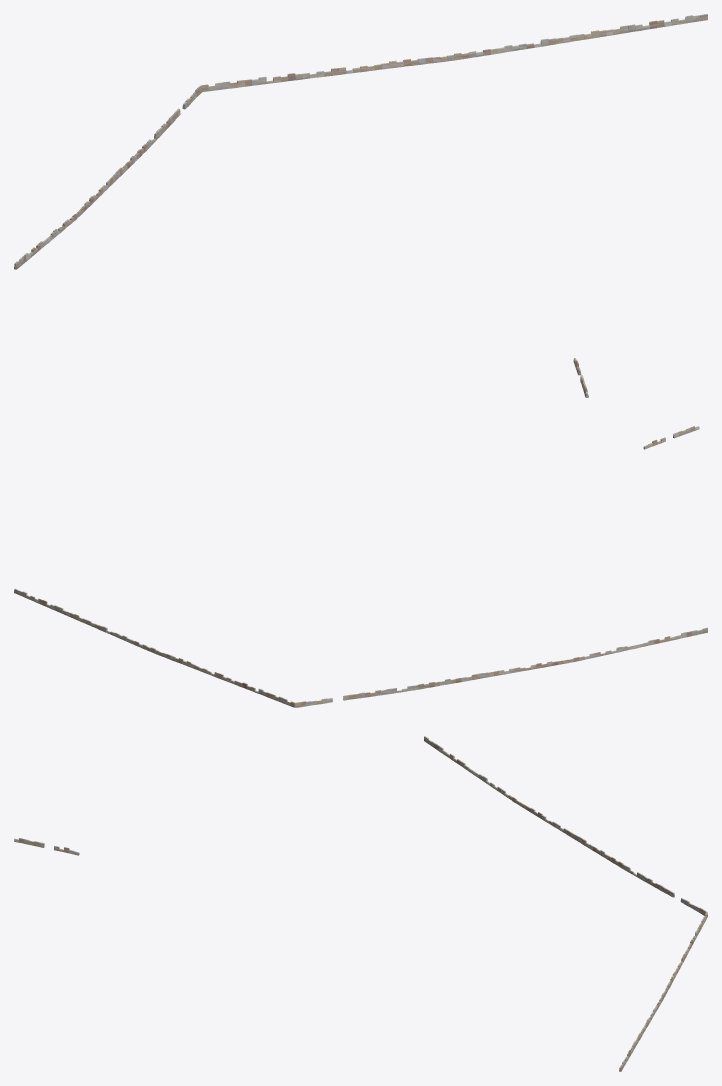
File: farm_12_-1_mid.glb
3 views of the same model, one above another, from view 1: azimuth 30°, elevation 25°; view 2: azimuth 150°, elevation 25°; view 3: azimuth 270°, elevation 25° (orthographic). The views are drawn at different scales.
Visible parts, largest first — view 1: geometry_0; view 2: geometry_0; view 3: geometry_0.
Part boxes in pixels (x1,y1,x2,y2): geometry_0: (14, 14, 707, 397); geometry_0: (14, 426, 707, 707); geometry_0: (14, 736, 707, 1071).
Size of the model in its own units: 201 by 15.62 by 199.
